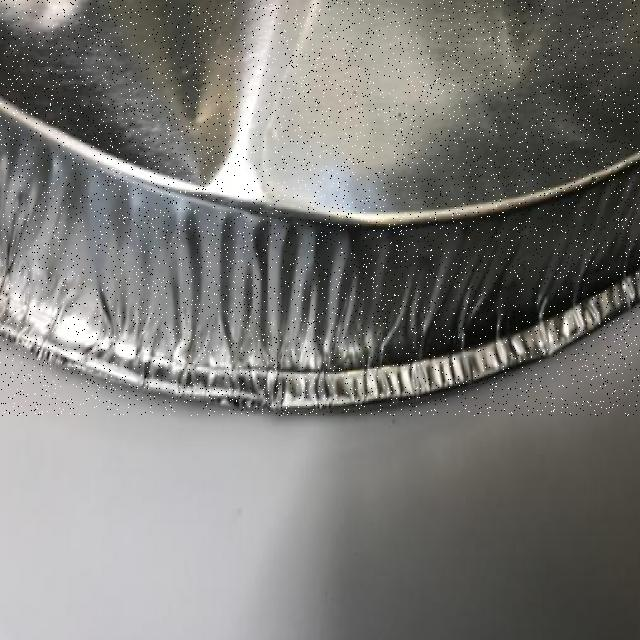metal: (0, 0, 640, 416)
